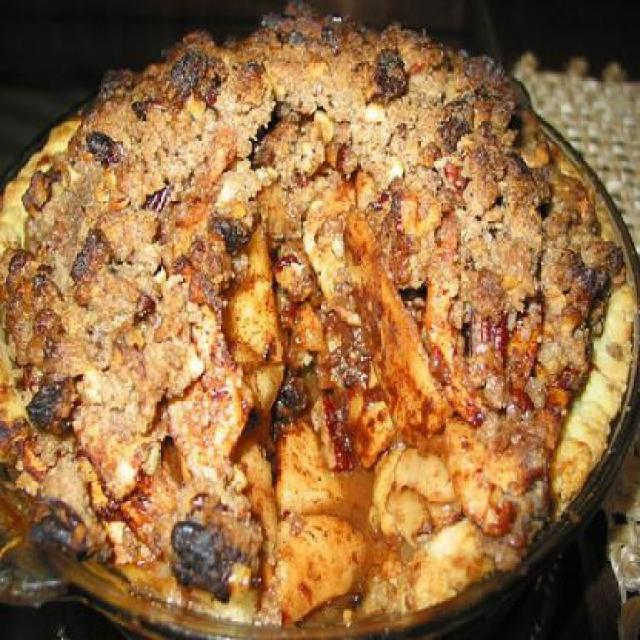Apple: (1, 29, 626, 612)
